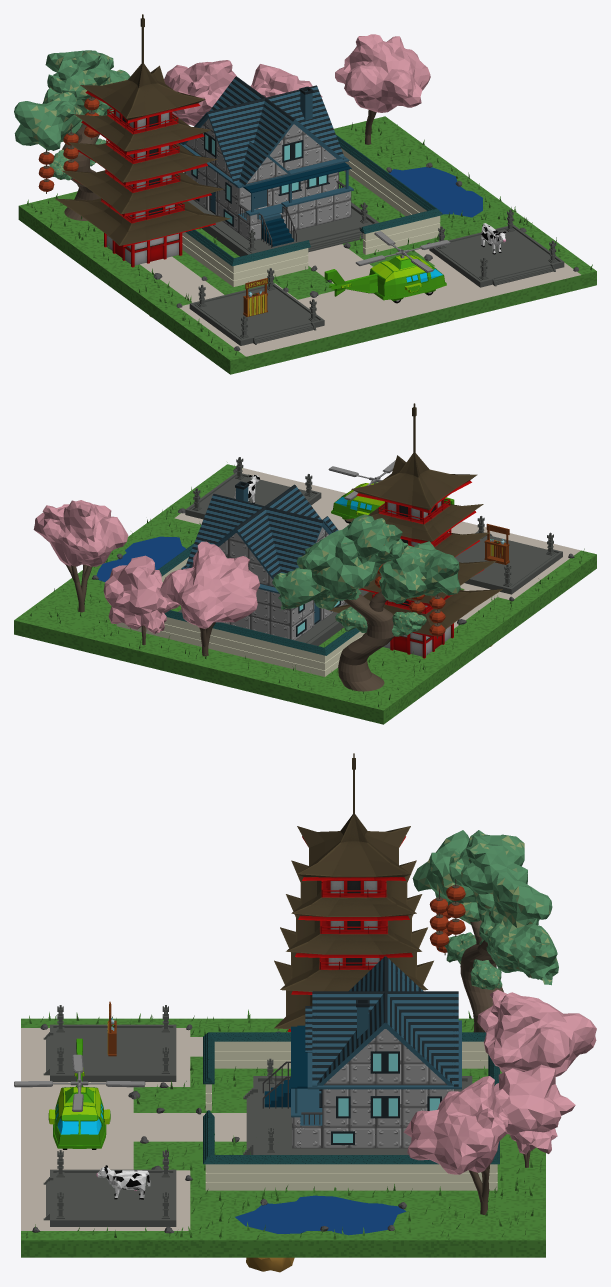
3 views of the same model, one above another, from view 1: azimuth 30°, elevation 25°; view 2: azimuth 150°, elevation 25°; view 3: azimuth 270°, elevation 25° (orthographic). The views are drawn at different scales.
Visible parts, largest first — view 1: Cube.005, Cube.078, VEHICLES_HELICOPTER, OBJRANDOM_LEMONADE_STAND, ANIMAL_VACA; view 2: Cube.005, Cube.078, VEHICLES_HELICOPTER, OBJRANDOM_LEMONADE_STAND; view 3: Cube.005, Cube.078, VEHICLES_HELICOPTER, ANIMAL_VACA.
Boxes of the visible parts, x1,y1,x2,y2 form: Cube.005: [14, 14, 596, 374]; Cube.078: [178, 76, 353, 247]; VEHICLES_HELICOPTER: [324, 231, 450, 303]; OBJRANDOM_LEMONADE_STAND: [243, 278, 267, 317]; ANIMAL_VACA: [481, 223, 506, 254]; Cube.005: [14, 403, 596, 724]; Cube.078: [181, 481, 345, 640]; VEHICLES_HELICOPTER: [328, 460, 454, 523]; OBJRANDOM_LEMONADE_STAND: [484, 523, 509, 564]; Cube.005: [21, 753, 596, 1257]; Cube.078: [262, 956, 461, 1148]; VEHICLES_HELICOPTER: [14, 1038, 145, 1149]; ANIMAL_VACA: [96, 1165, 150, 1199].
Bounding box in the file's own units: 4528 × 2803 × 4442.
Materials: 42 (7 with a texture image).
